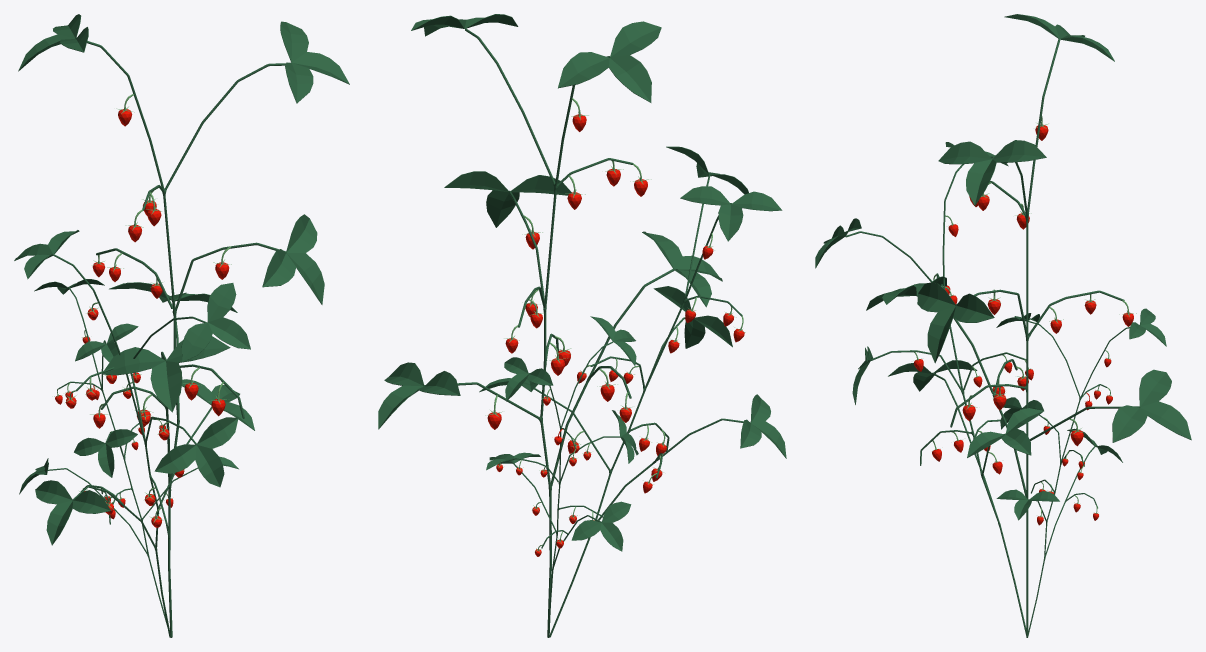
The model's file is mod_vg_fraisierM.fbx.
The picture shows the model from 3 angles, left to right: view 1: azimuth 30°, elevation 25°; view 2: azimuth 150°, elevation 25°; view 3: azimuth 270°, elevation 25°; orthographic projection. The views are drawn at different scales.
Parts seen in each view (by area): view 1: Fraisier; view 2: Fraisier; view 3: Fraisier.
Boxes of the visible parts, x1=… form: Fraisier: x1=14, y1=14, x2=349, y2=637; Fraisier: x1=378, y1=14, x2=786, y2=637; Fraisier: x1=815, y1=14, x2=1191, y2=637.
Size of the model in its own units: 58.59 by 104 by 60.77.
